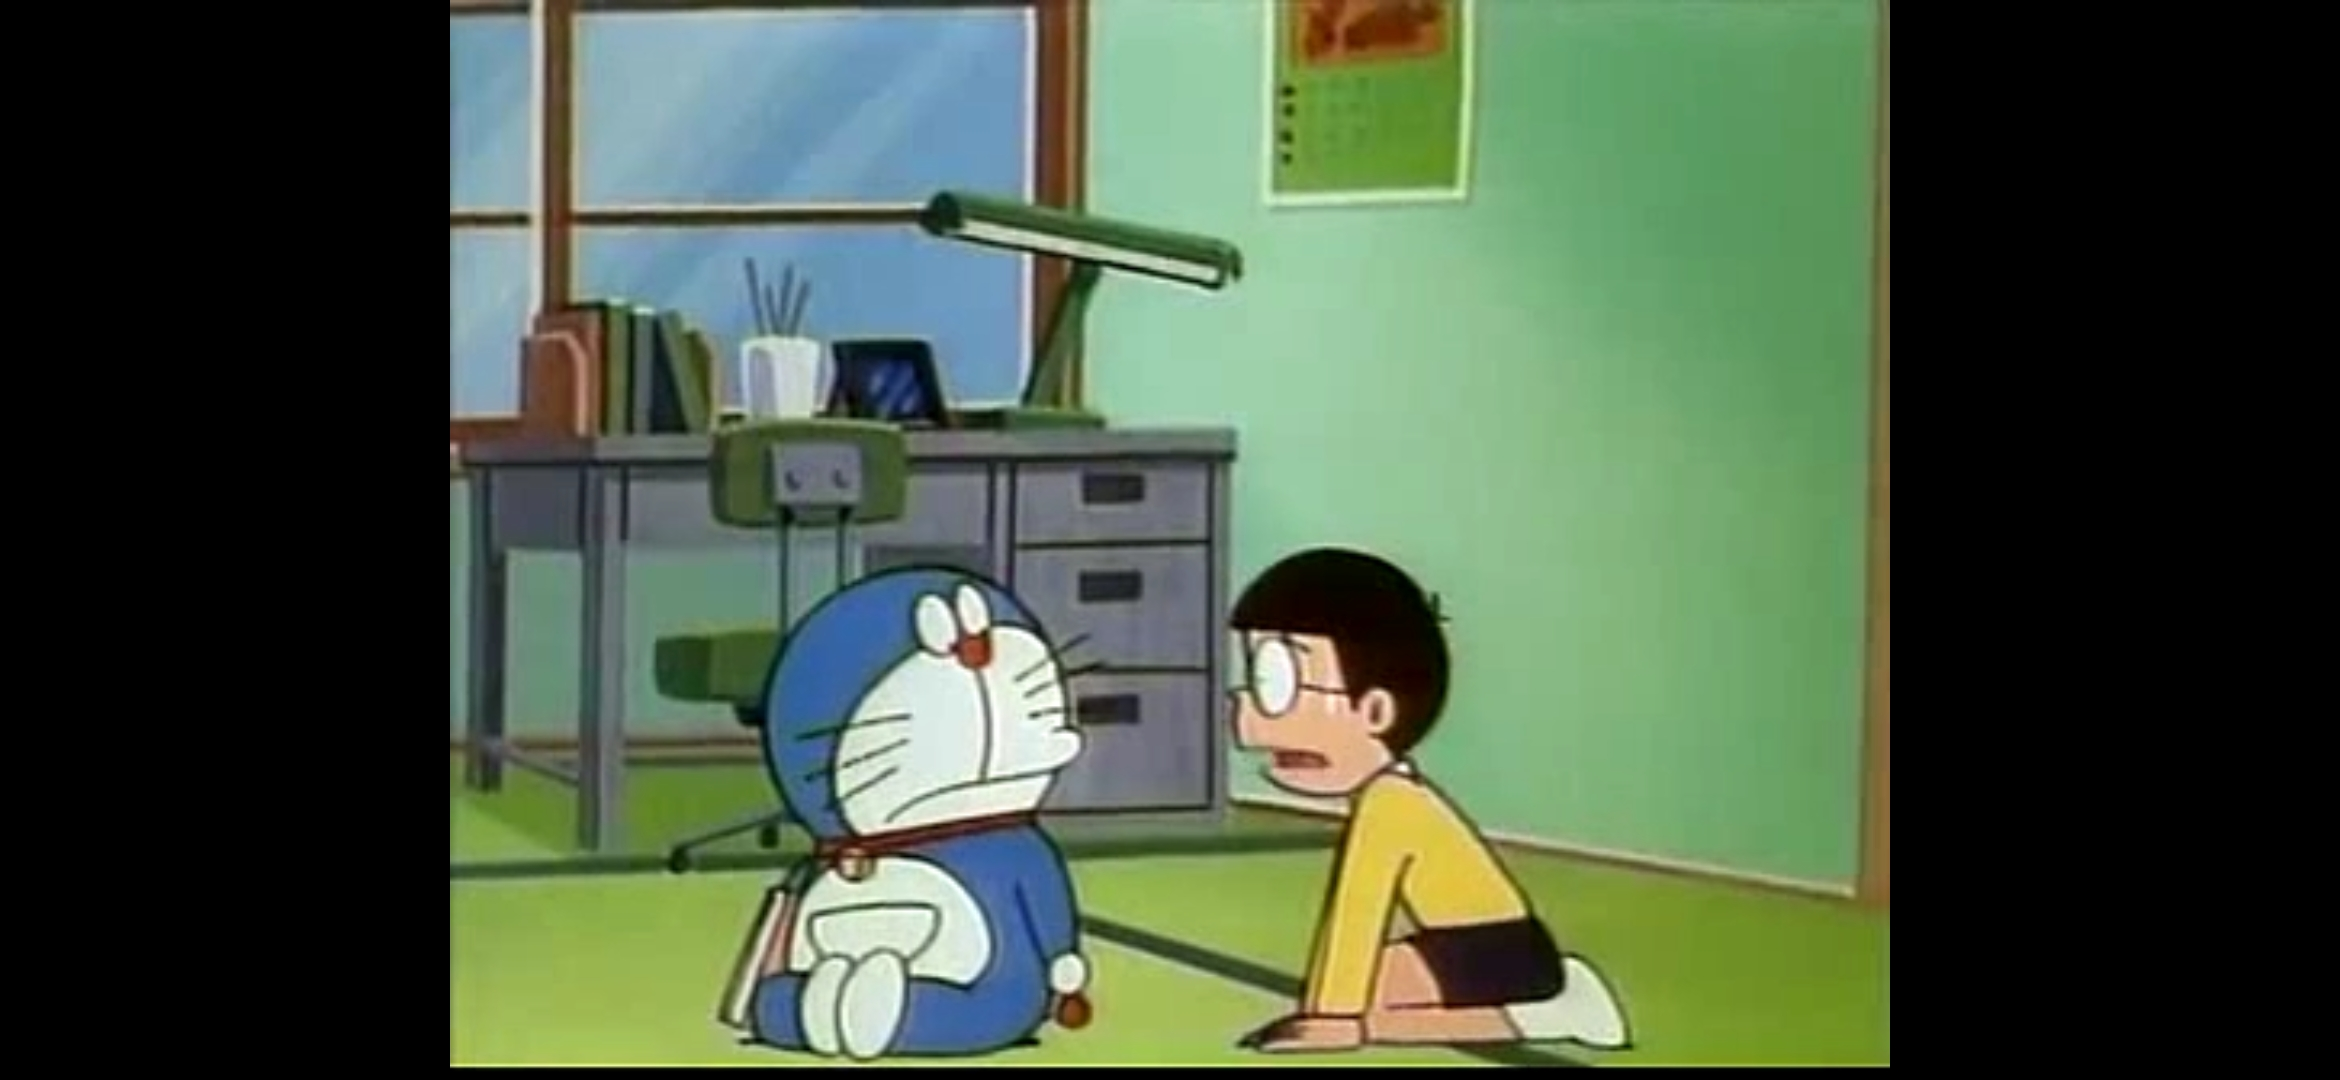Doraemon: (761, 562, 1082, 882)
Nobi: (1224, 544, 1451, 794)
